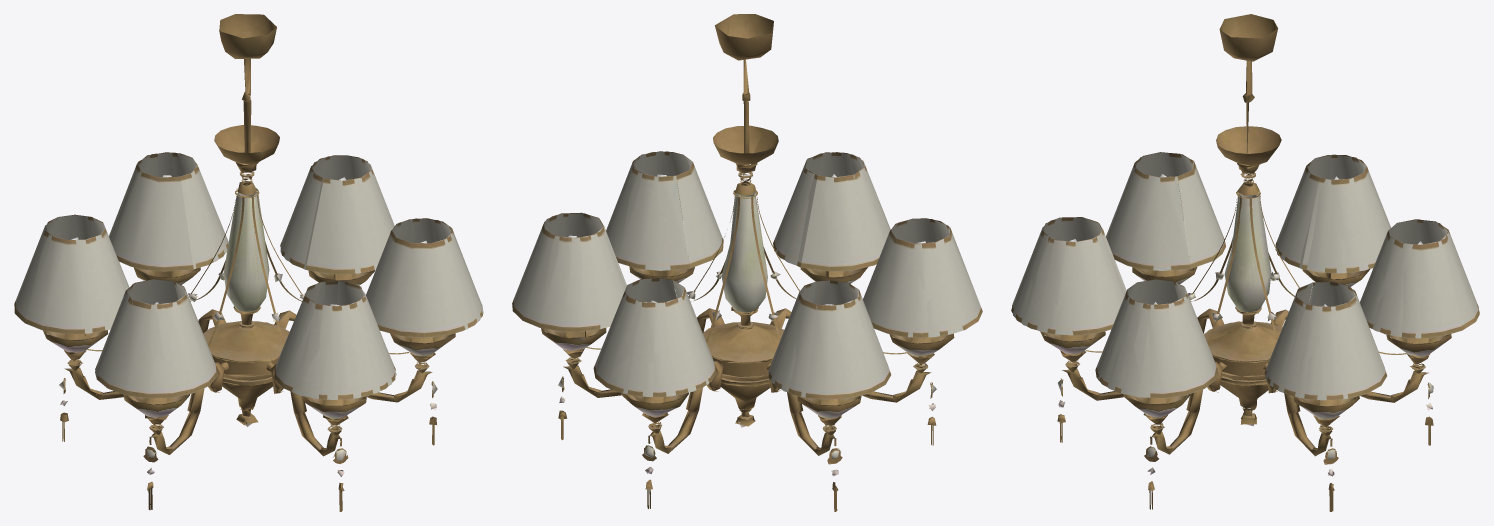
File: ph_Chandelier_01.glb
3 renders of one model, left to right at view 1: azimuth 30°, elevation 25°; view 2: azimuth 150°, elevation 25°; view 3: azimuth 270°, elevation 25°, orthographic.
Parts seen in each view (by area): view 1: Chandelier_01; view 2: Chandelier_01; view 3: Chandelier_01.
Part boxes in pixels (left/top/right/bottom): Chandelier_01: left=14, top=14, right=483, bottom=511; Chandelier_01: left=512, top=14, right=982, bottom=511; Chandelier_01: left=1011, top=14, right=1479, bottom=511.
Bounding box in the file's own units: 0.7455 × 0.7983 × 0.8162.
2 materials, 1 textured.
